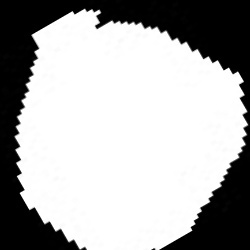spot: (15, 10, 249, 249)
